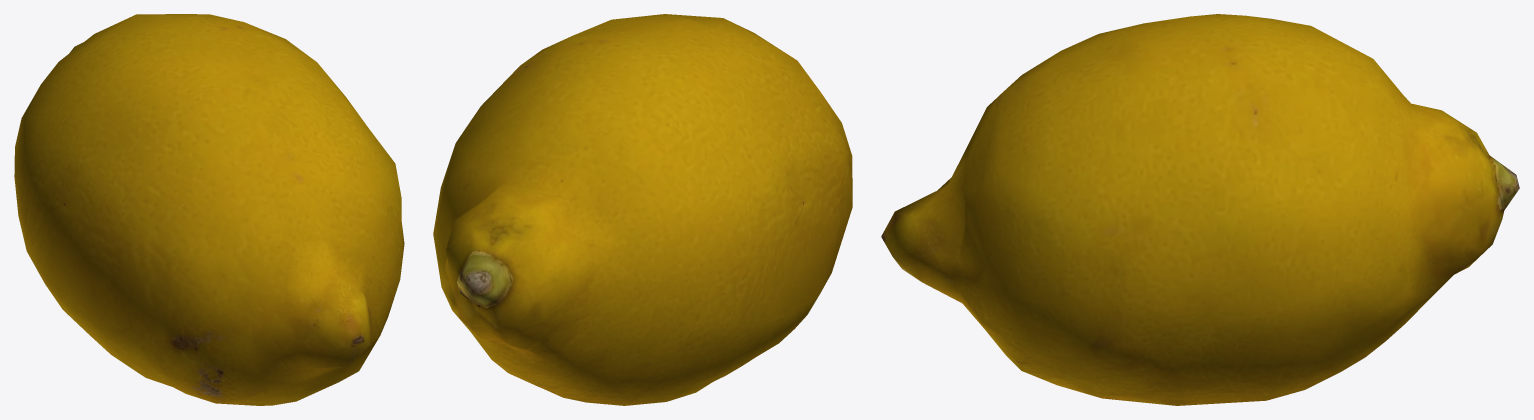
The model's file is lemon-transformed.glb.
The picture shows the model from 3 angles, left to right: view 1: azimuth 30°, elevation 25°; view 2: azimuth 150°, elevation 25°; view 3: azimuth 270°, elevation 25°; orthographic projection. The views are drawn at different scales.
Visible parts, largest first — view 1: Lemon; view 2: Lemon; view 3: Lemon.
Part boxes in pixels (x1,y1,x2,y2): Lemon: (14, 14, 404, 405); Lemon: (433, 14, 852, 405); Lemon: (881, 14, 1519, 405).
Size of the model in its own units: 6.19 by 6.27 by 10.48.
1 material, 1 textured.
